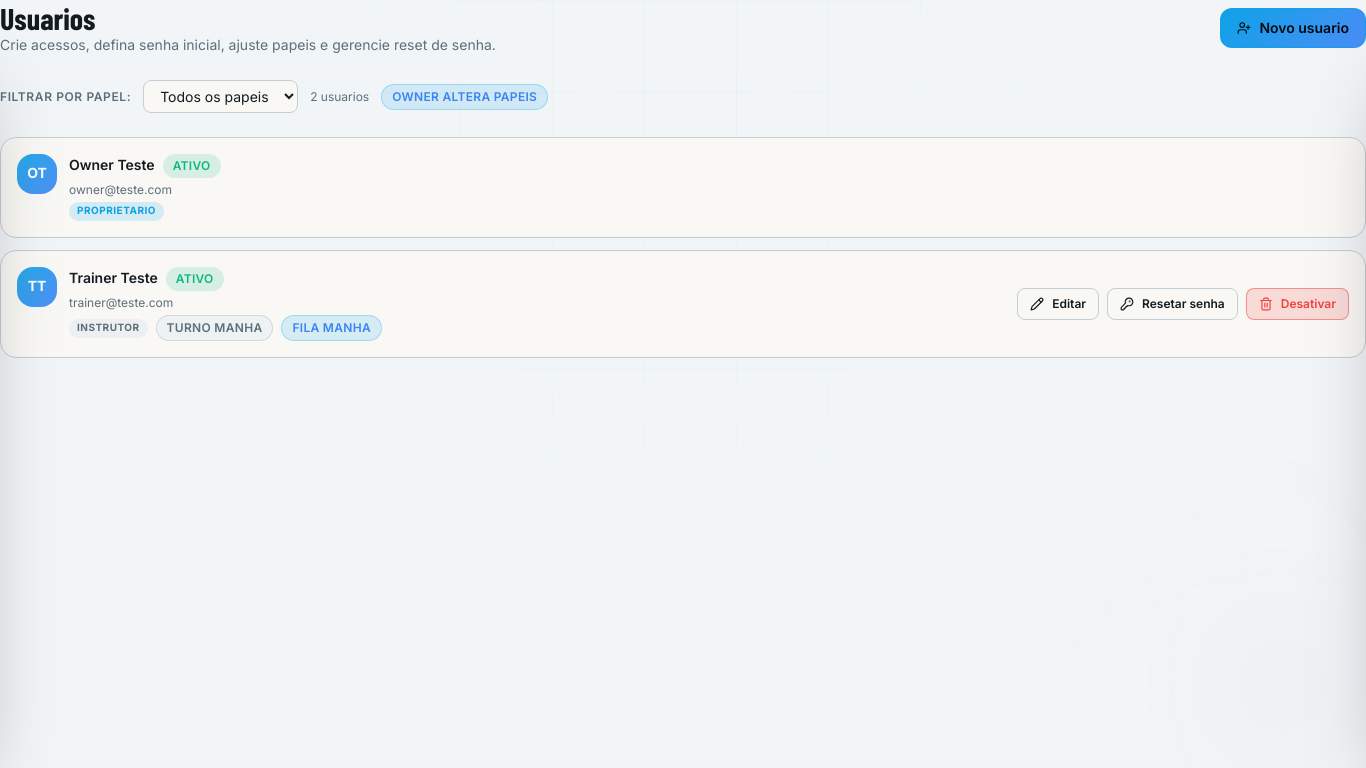
Scenario: UsersPage › only generates a temporary password on create when explicitly requested
The width and height of the screenshot is (1366, 768).
Click the button "Novo usuario": (1293, 28) top-left (1220, 8), bottom-right (1365, 48)
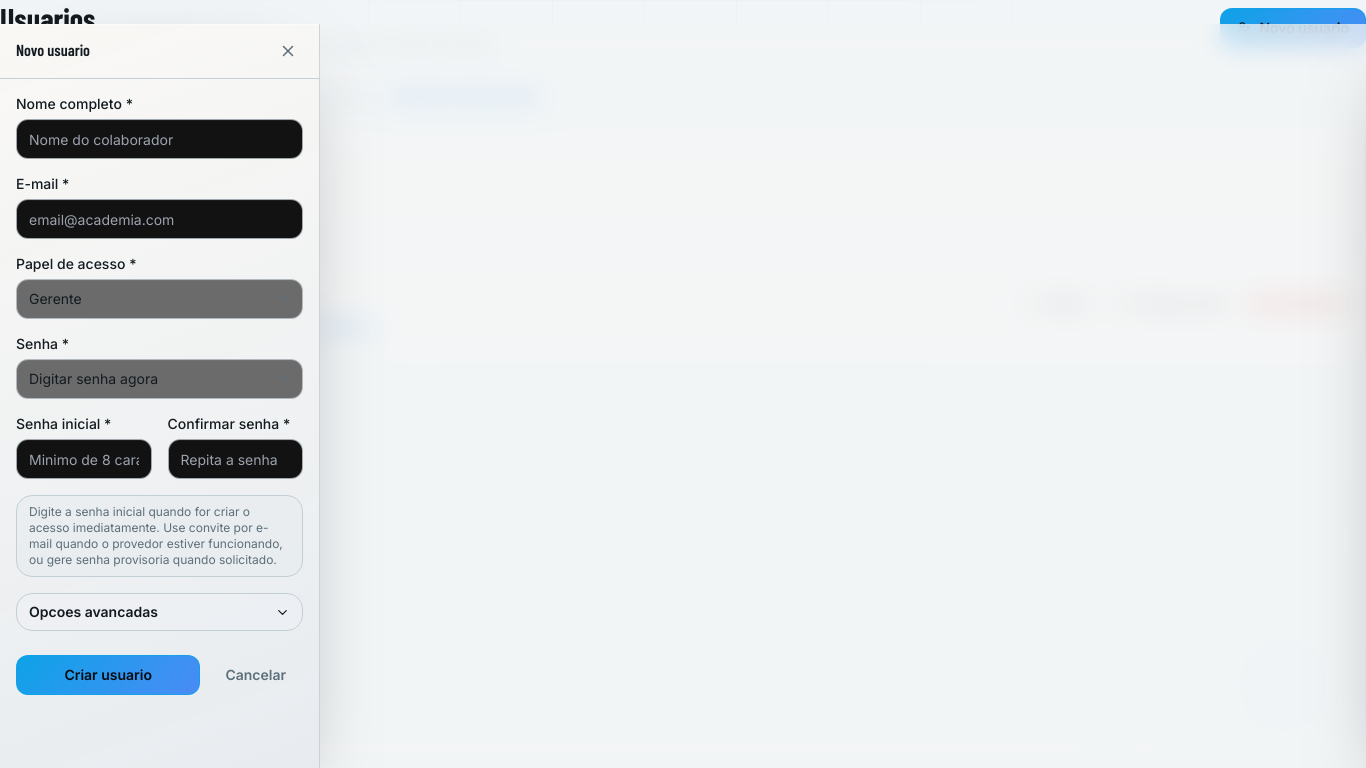
In the field with placeholder "Nome do colaborador": (160, 139) top-left (16, 119), bottom-right (303, 159), type "Instrutor Novo"
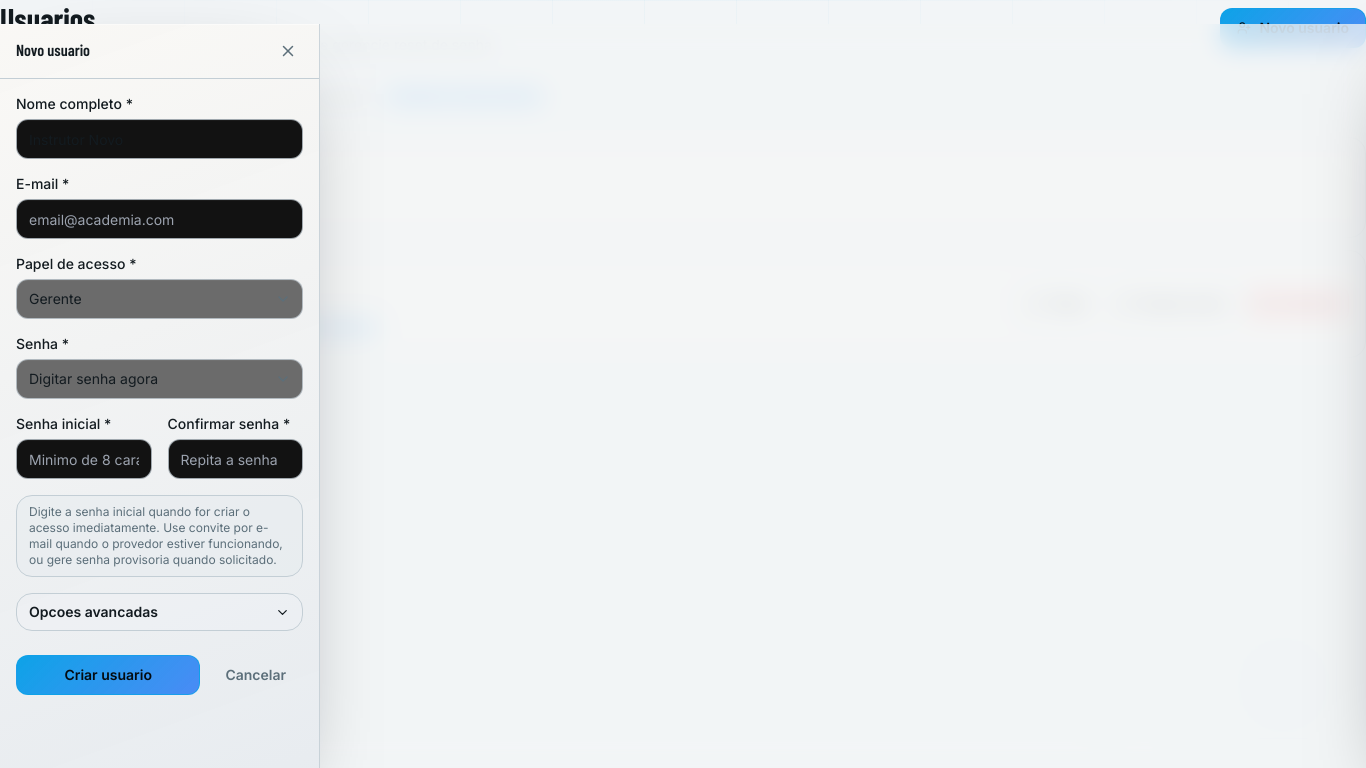
In the field with placeholder "email@academia.com": (160, 219) top-left (16, 199), bottom-right (303, 239), type "instrutor.novo@teste.com"
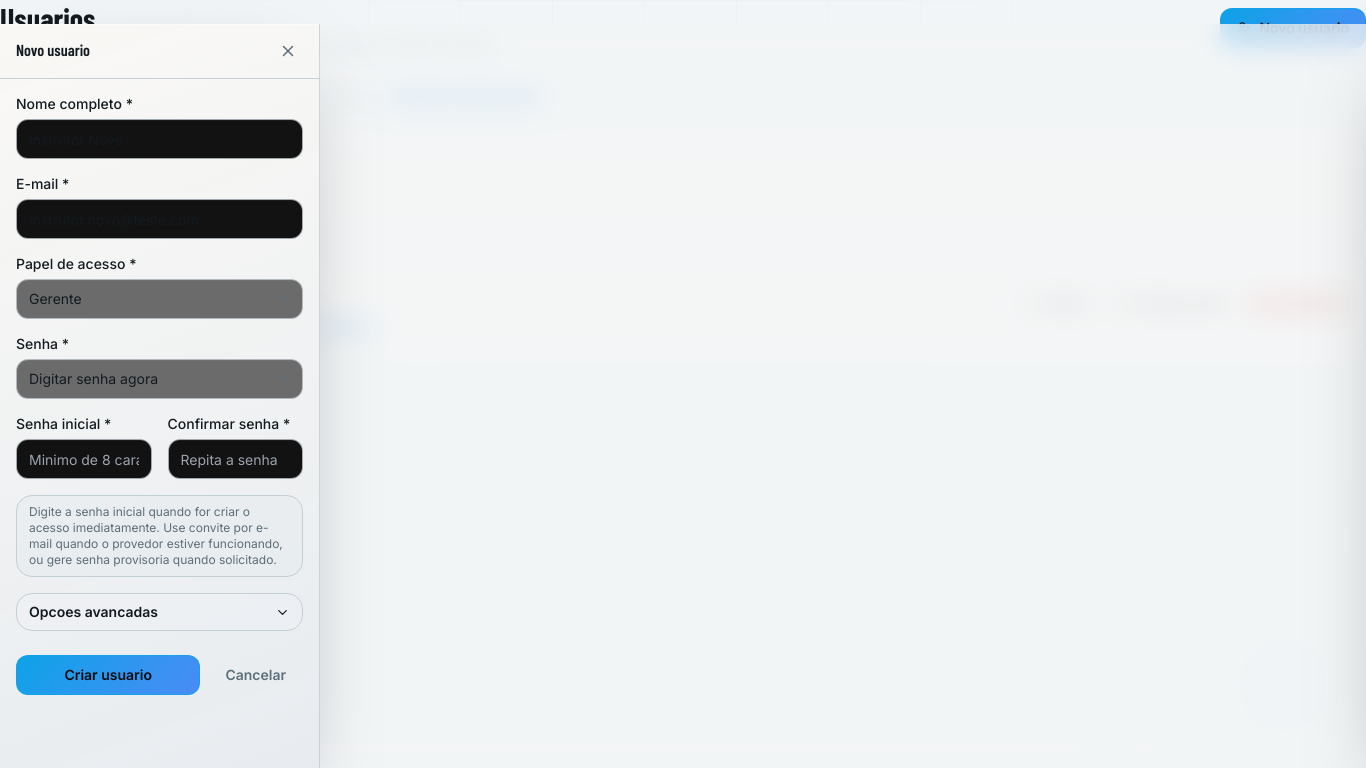
Select "Gerar senha provisoria agora" in the 2nd dropdown showing "Digitar senha agora": (160, 379) top-left (16, 359), bottom-right (303, 399)
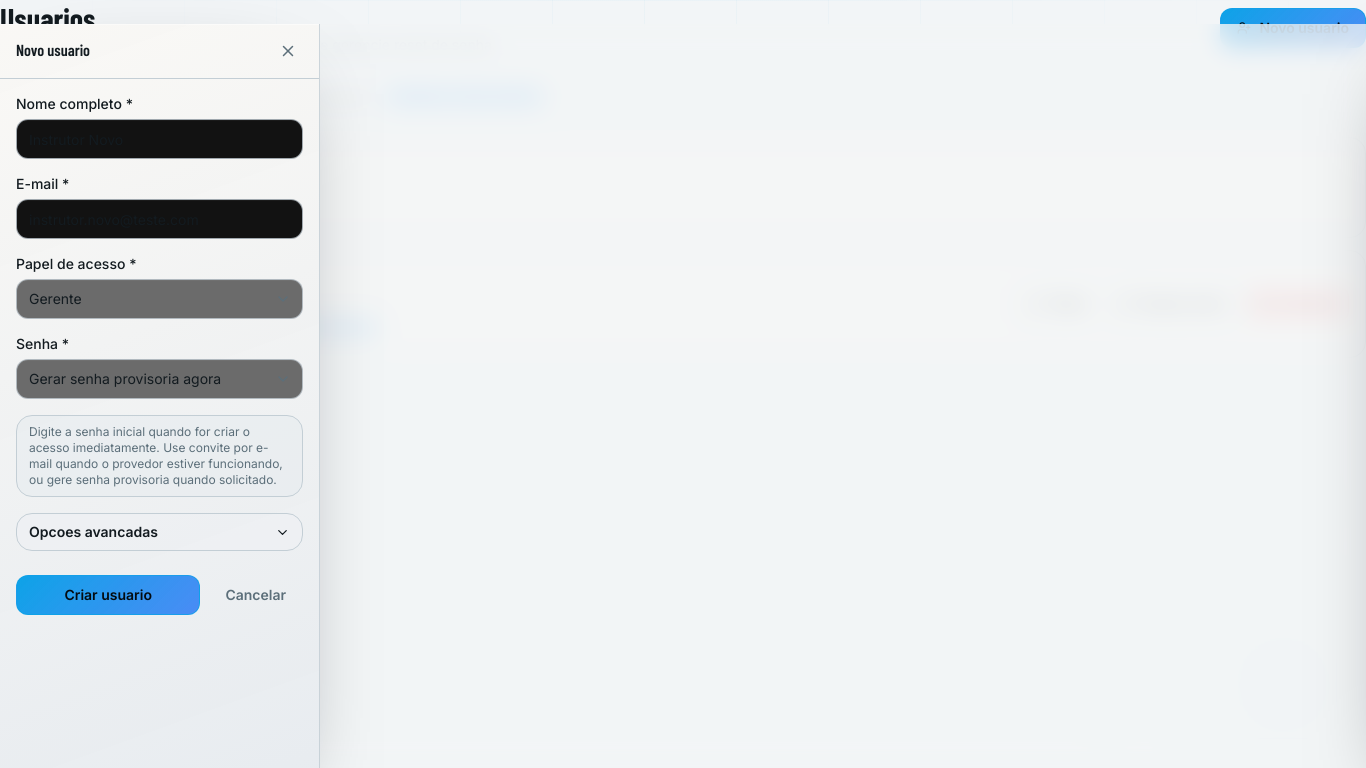
Click the button "Criar usuario": (108, 595) top-left (16, 575), bottom-right (200, 615)
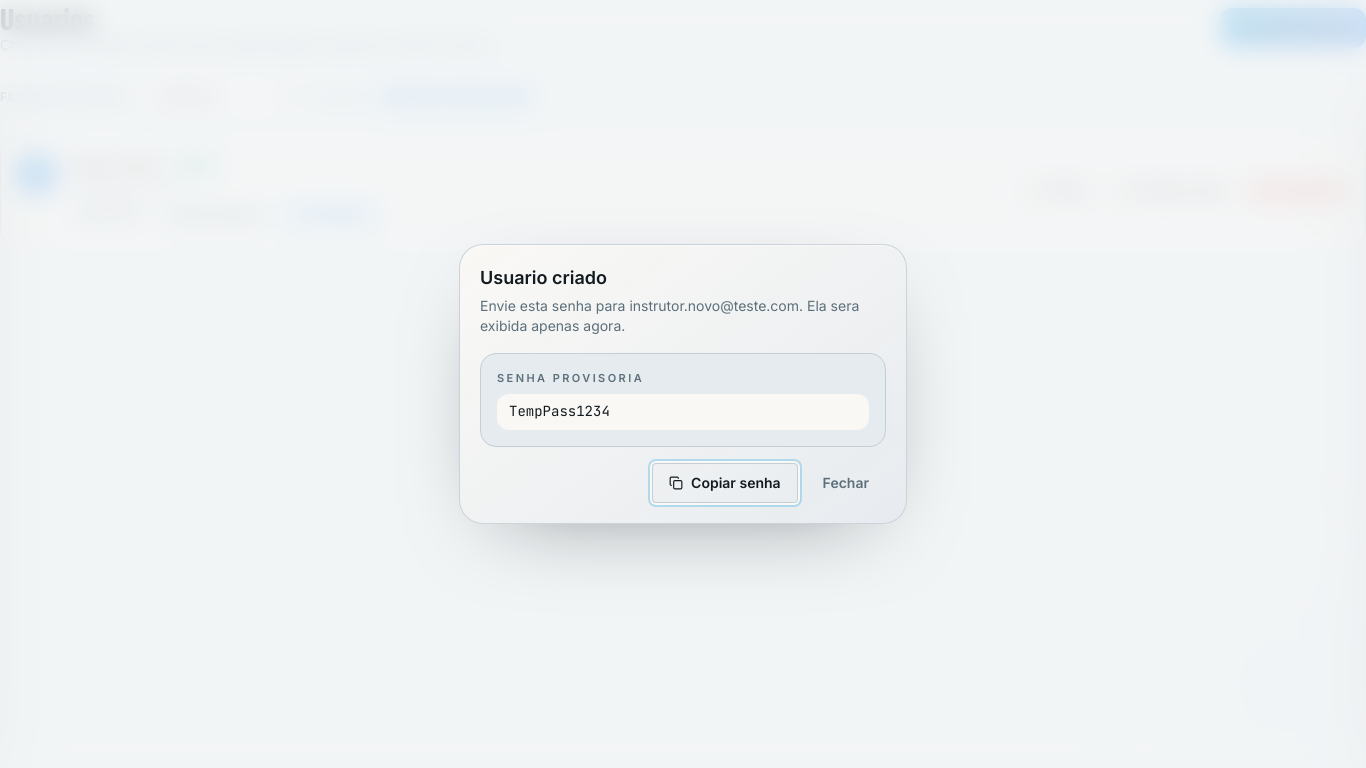
Expected: the text "TempPass1234" is shown, top-left (497, 394), bottom-right (869, 430)
